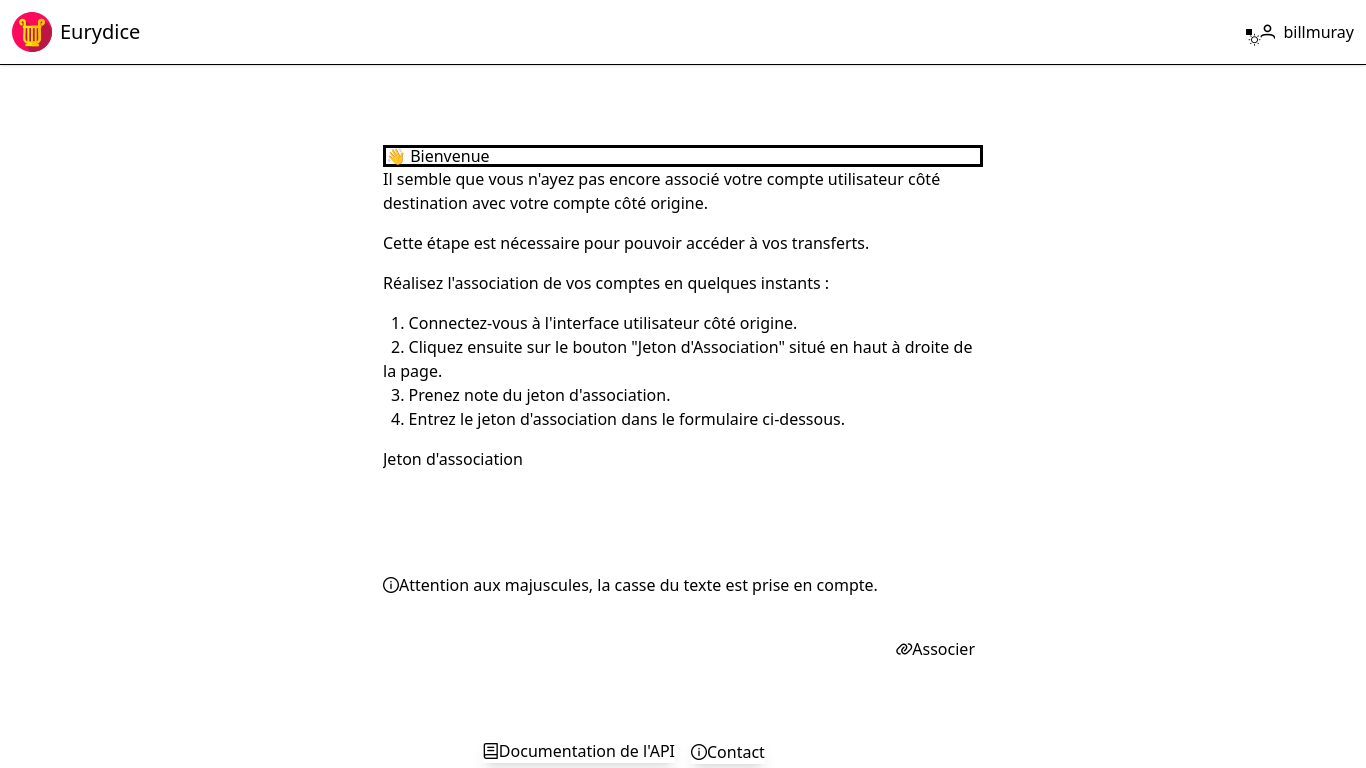
Test: Main View Origin › Shows errors when token is not in correct format before sending
Clear the text box with test id "TokenTextArea" at (683, 507), box 383,447 -> 983,567
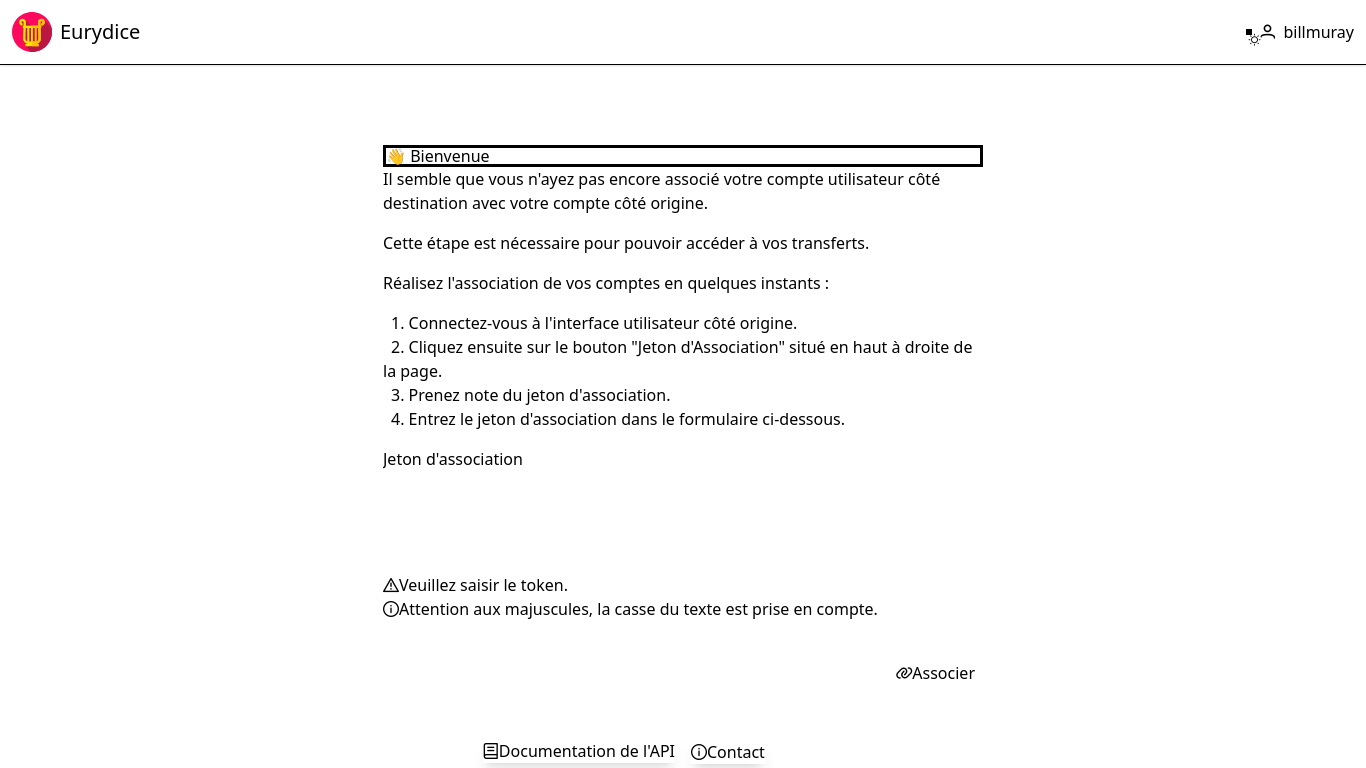
Now the element with test id "TokenErrorMsg" is shown, box 383,574 -> 568,596
Now the element with test id "TokenErrorMsg" reads "Veuillez saisir le token.", box 399,574 -> 568,596
